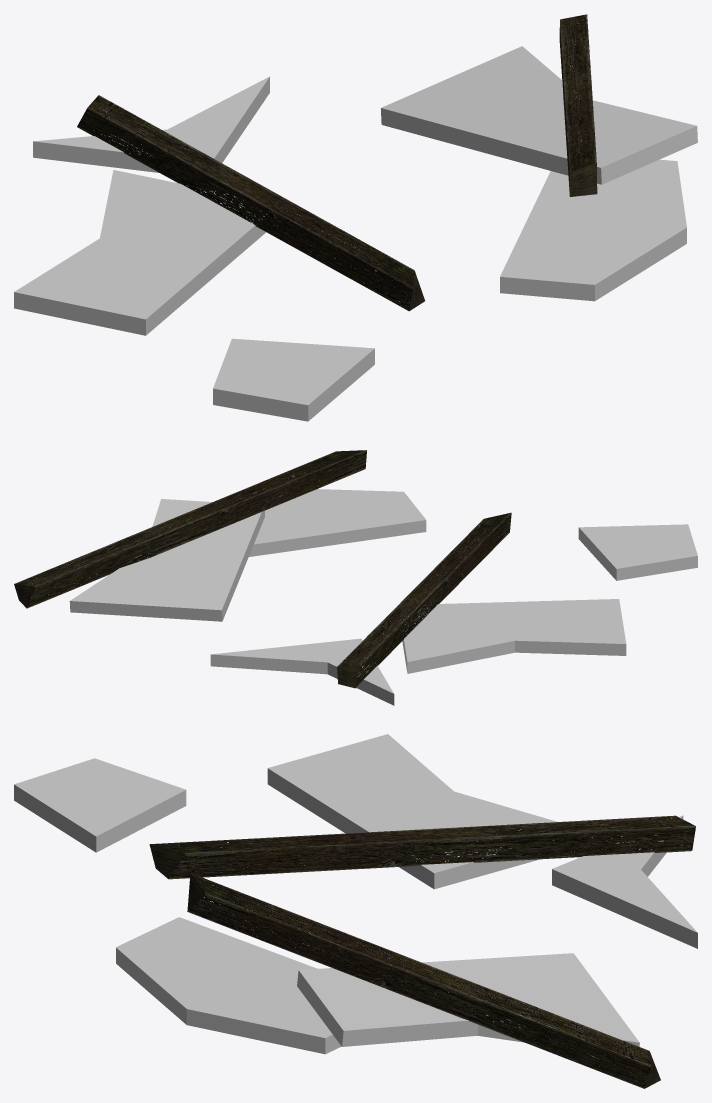
Rendered from mansionbase_roof.dae.
3 views of the same model, one above another, from view 1: azimuth 30°, elevation 25°; view 2: azimuth 150°, elevation 25°; view 3: azimuth 270°, elevation 25° (orthographic). The views are drawn at different scales.
Parts seen in each view (by area): view 1: polySurface50, polySurface51; view 2: polySurface50, polySurface51; view 3: polySurface50, polySurface51.
Boxes of the visible parts, box(x1,y1,x2,y2) form: polySurface50: box(14, 46, 697, 421); polySurface51: box(77, 14, 597, 311); polySurface50: box(69, 489, 697, 705); polySurface51: box(14, 450, 511, 688); polySurface50: box(14, 734, 697, 1055); polySurface51: box(149, 815, 695, 1088).
Bounding box in the file's own units: 3.7 × 0.5026 × 3.14.
